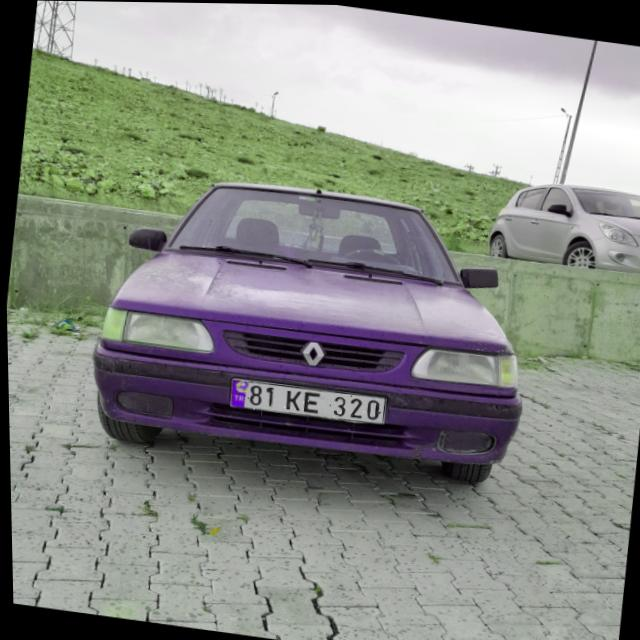license_plate: (226, 377, 384, 427)
